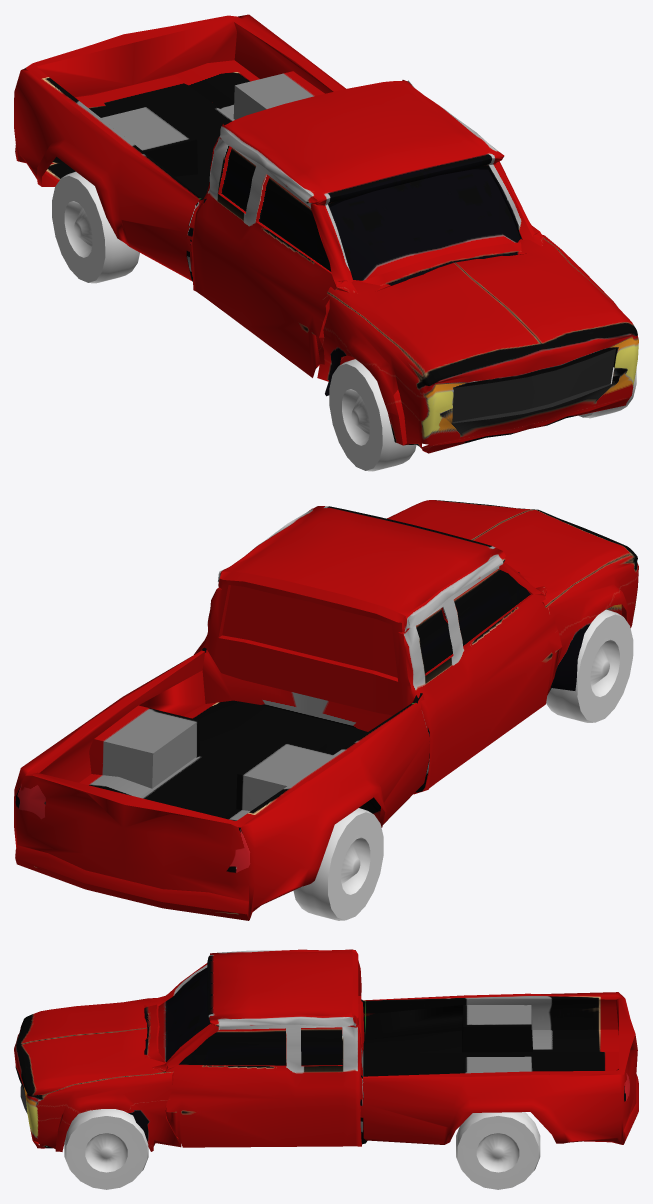
The model's file is SM_Truck_Final.FBX.
The picture shows the model from 3 angles, top to bottom: view 1: azimuth 30°, elevation 25°; view 2: azimuth 150°, elevation 25°; view 3: azimuth 270°, elevation 25°; orthographic projection. The views are drawn at different scales.
Parts seen in each view (by area): view 1: Box005, Cylinder007, Cylinder003, Cylinder008, Cylinder004; view 2: Box005, Cylinder007, Cylinder003, Cylinder008, Cylinder004; view 3: Box005, Cylinder005, Cylinder001, Cylinder006, Cylinder002.
Part boxes in pixels (x1=…): Box005: x1=14, y1=14, x2=638, y2=453; Cylinder007: x1=52, y1=171, x2=139, y2=283; Cylinder003: x1=329, y1=359, x2=416, y2=471; Cylinder008: x1=64, y1=201, x2=92, y2=257; Cylinder004: x1=342, y1=389, x2=369, y2=445; Box005: x1=14, y1=500, x2=638, y2=920; Cylinder007: x1=293, y1=808, x2=383, y2=920; Cylinder003: x1=546, y1=609, x2=633, y2=722; Cylinder008: x1=341, y1=837, x2=370, y2=894; Cylinder004: x1=590, y1=639, x2=619, y2=696; Box005: x1=14, y1=949, x2=638, y2=1151; Cylinder005: x1=456, y1=1112, x2=540, y2=1189; Cylinder001: x1=64, y1=1109, x2=148, y2=1189; Cylinder006: x1=476, y1=1133, x2=519, y2=1172; Cylinder002: x1=85, y1=1133, x2=127, y2=1172.
Bounding box in the file's own units: 40.44 × 31.65 × 107.
Materials: 1 (1 with a texture image).
